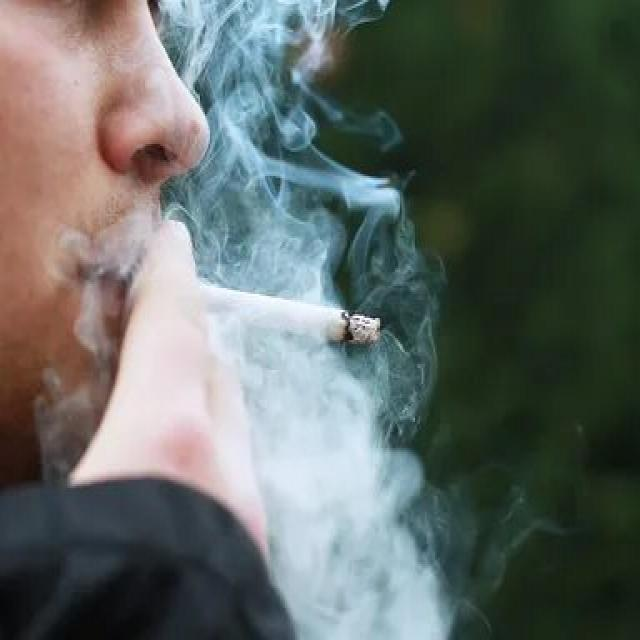smoke: (180, 272, 387, 350)
